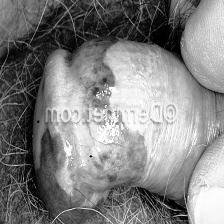Potentially Malignant Skin Tumors: (82, 123, 145, 189), (68, 33, 118, 105)
